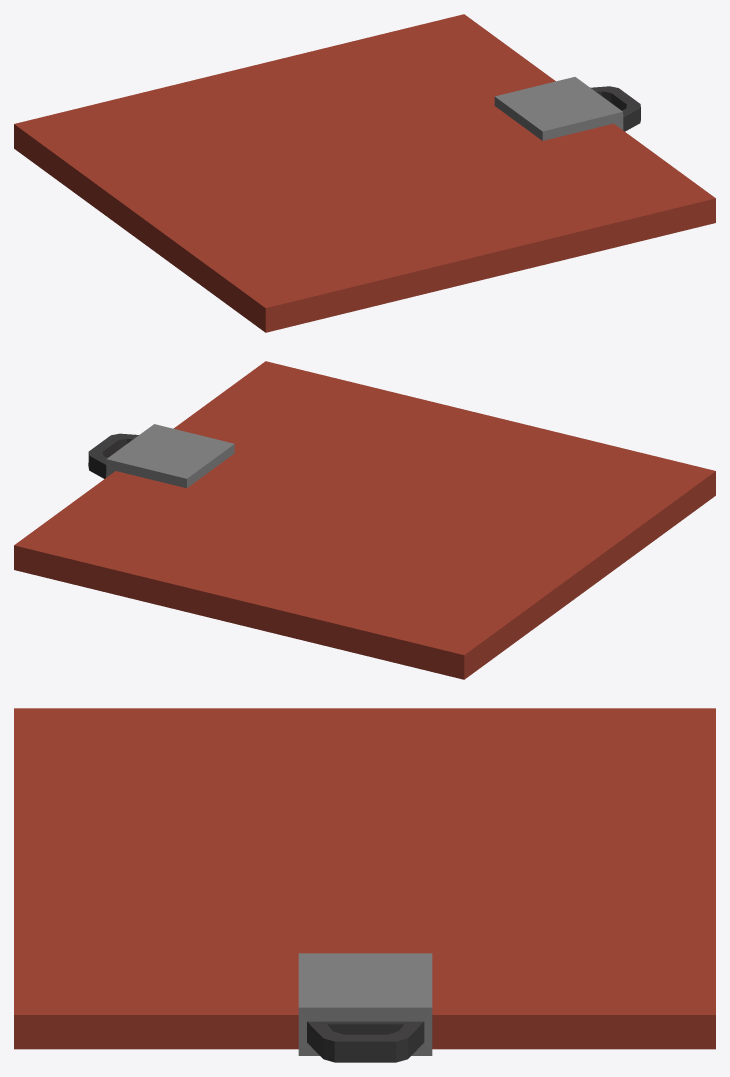
The model's file is botola.fbx.
3 views of the same model, one above another, from view 1: azimuth 30°, elevation 25°; view 2: azimuth 150°, elevation 25°; view 3: azimuth 270°, elevation 25° (orthographic). The views are drawn at different scales.
Parts seen in each view (by area): view 1: botola; view 2: botola; view 3: botola.
Boxes of the visible parts, x1,y1,x2,y2 form: botola: (14, 14, 715, 332); botola: (14, 361, 715, 679); botola: (14, 708, 715, 1062).
Size of the model in its own units: 90 by 6 by 80.
